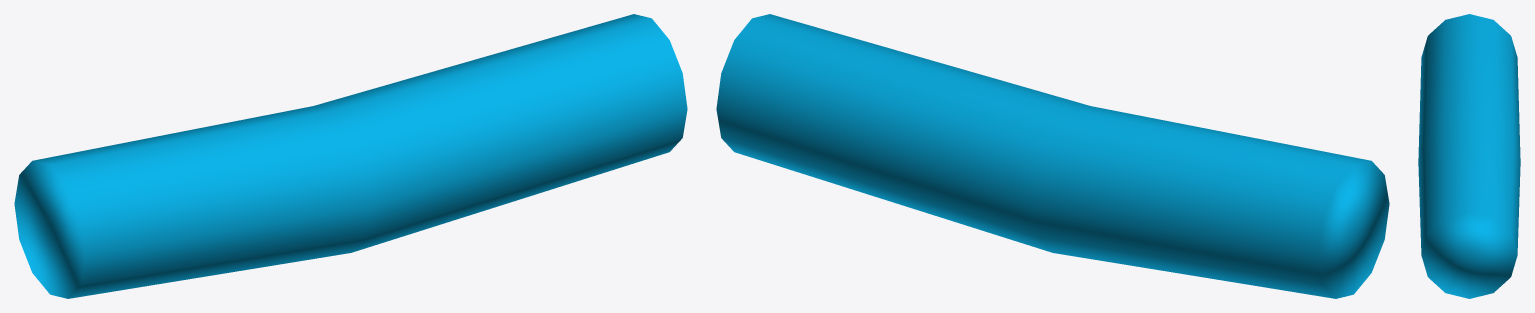
Rendered from Cut_Wood_04.fbx.
The picture shows the model from 3 angles, left to right: view 1: azimuth 30°, elevation 25°; view 2: azimuth 150°, elevation 25°; view 3: azimuth 270°, elevation 25°; orthographic projection. The views are drawn at different scales.
Visible parts, largest first — view 1: Cut_Wood_04; view 2: Cut_Wood_04; view 3: Cut_Wood_04.
Boxes of the visible parts, box(x1,y1,x2,y2) form: Cut_Wood_04: box(14, 14, 687, 298); Cut_Wood_04: box(716, 14, 1389, 298); Cut_Wood_04: box(1418, 14, 1520, 298).
Bounding box in the file's own units: 61.53 × 14.84 × 13.44.
